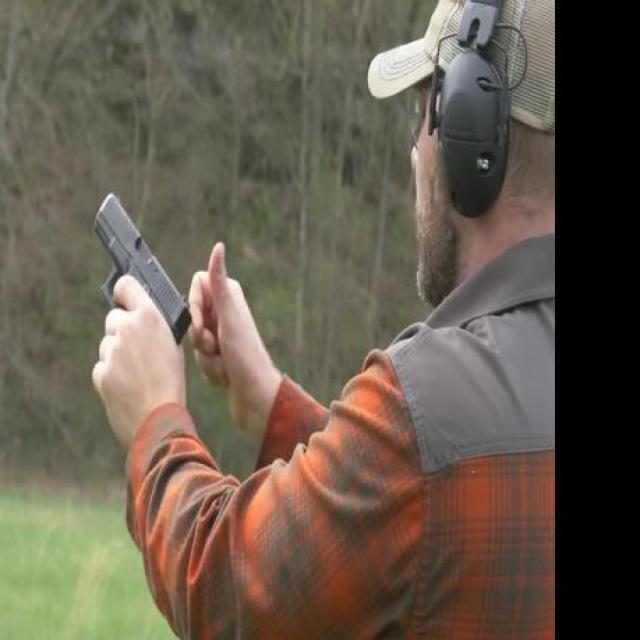weapon: (85, 190, 194, 347)
